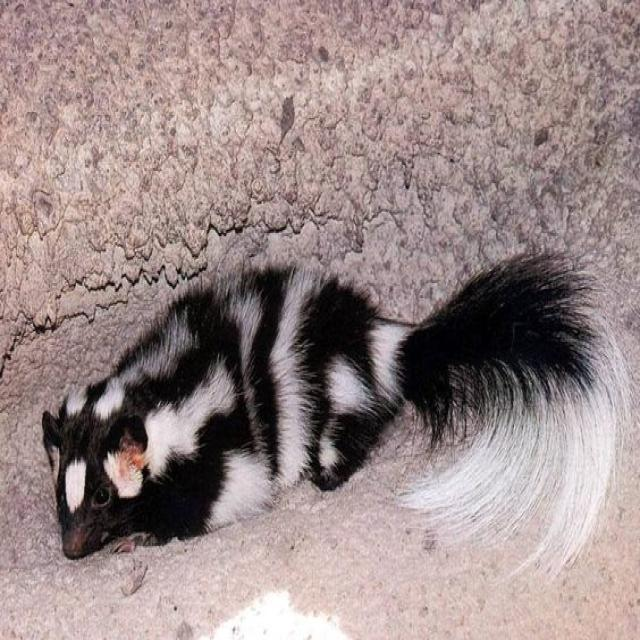Skunk: (39, 229, 624, 602)
